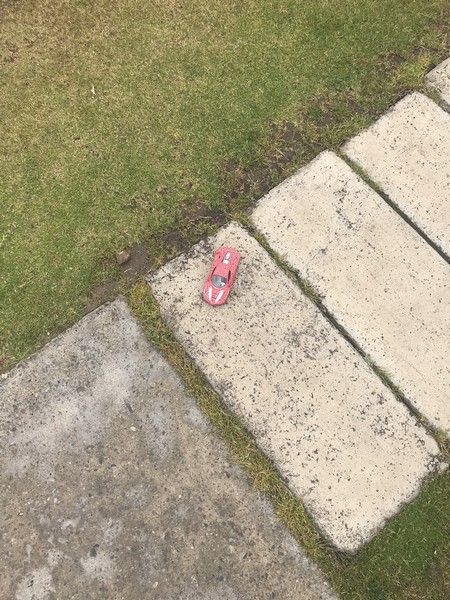RC: (202, 246, 243, 307)
